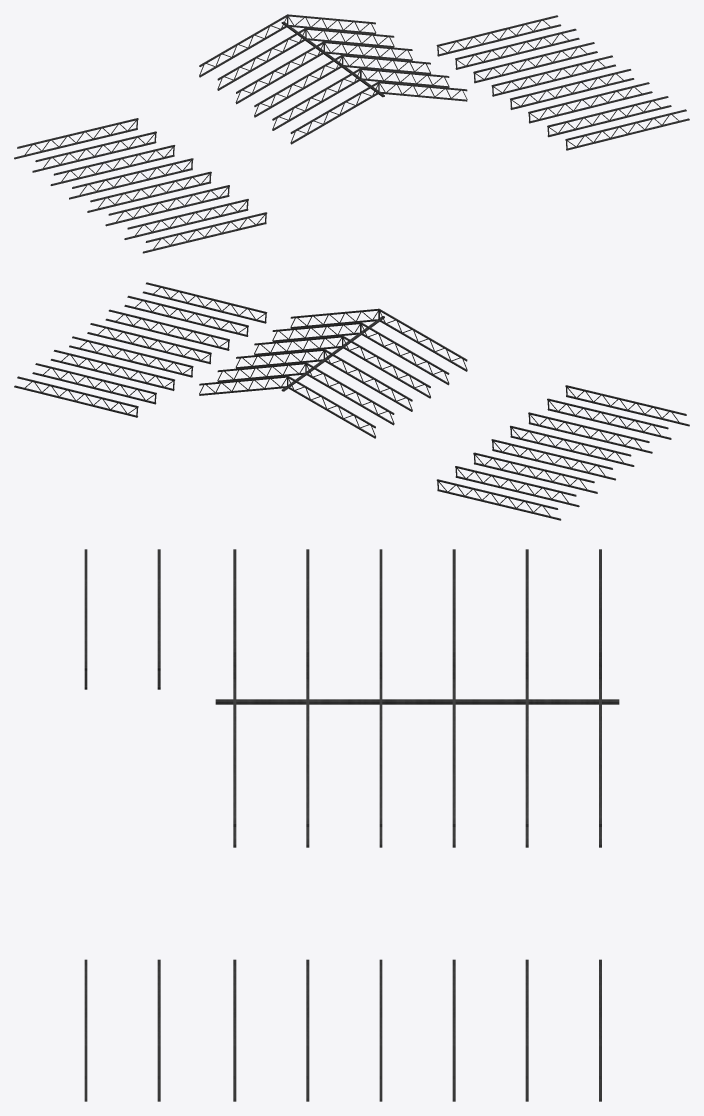
The model's file is A-Truss.glb.
The picture shows the model from 3 angles, top to bottom: view 1: azimuth 30°, elevation 25°; view 2: azimuth 150°, elevation 25°; view 3: azimuth 270°, elevation 25°; orthographic projection. The views are drawn at different scales.
Parts seen in each view (by area): view 1: A-Truss.003; view 2: A-Truss.003; view 3: A-Truss.003.
Boxes of the visible parts, x1,y1,x2,y2 form: A-Truss.003: (14, 14, 689, 253); A-Truss.003: (14, 282, 689, 520); A-Truss.003: (84, 549, 619, 1101).
Size of the model in its own units: 23.77 by 3.26 by 10.07.
1 material, 1 textured.
